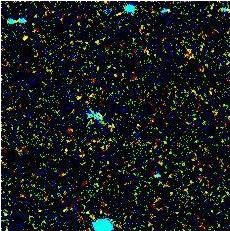star: (8, 24, 38, 54)
